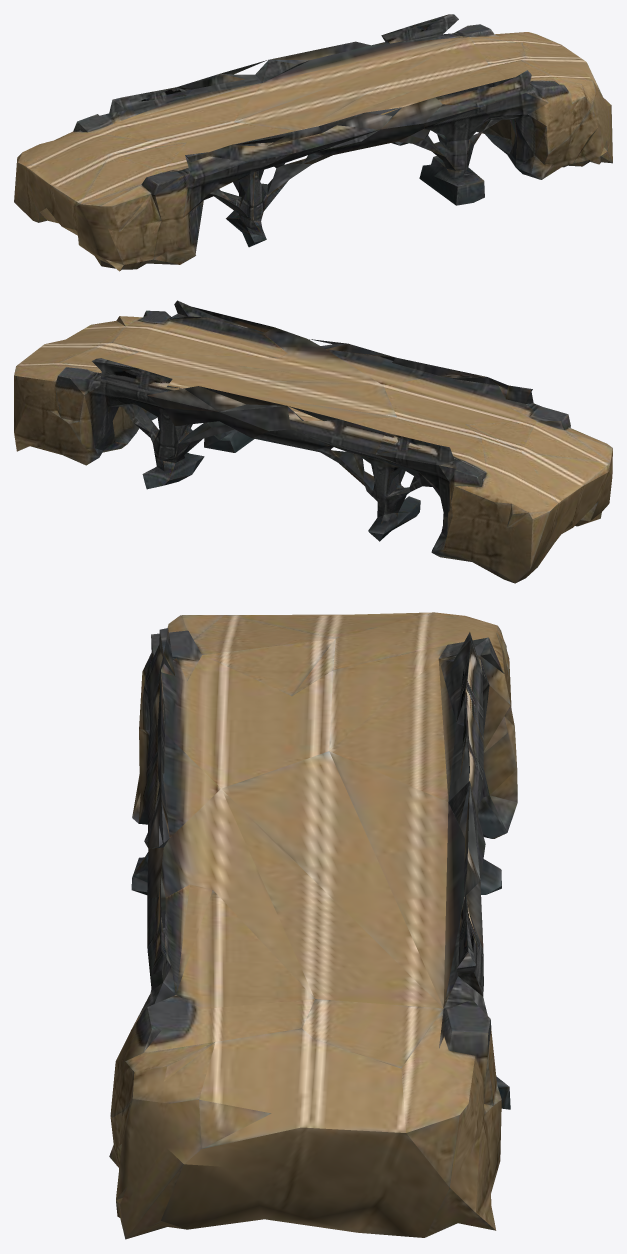
File: arch-bridge.lod.glb
3 views of the same model, one above another, from view 1: azimuth 30°, elevation 25°; view 2: azimuth 150°, elevation 25°; view 3: azimuth 270°, elevation 25° (orthographic). The views are drawn at different scales.
Visible parts, largest first — view 1: output_unwrapped; view 2: output_unwrapped; view 3: output_unwrapped.
Part boxes in pixels (x1,y1,x2,y2): output_unwrapped: [14, 14, 612, 271]; output_unwrapped: [14, 300, 612, 583]; output_unwrapped: [109, 612, 517, 1239].
Size of the model in its own units: 1.89 by 0.372 by 0.6331.
Materials: 1 (1 with a texture image).
